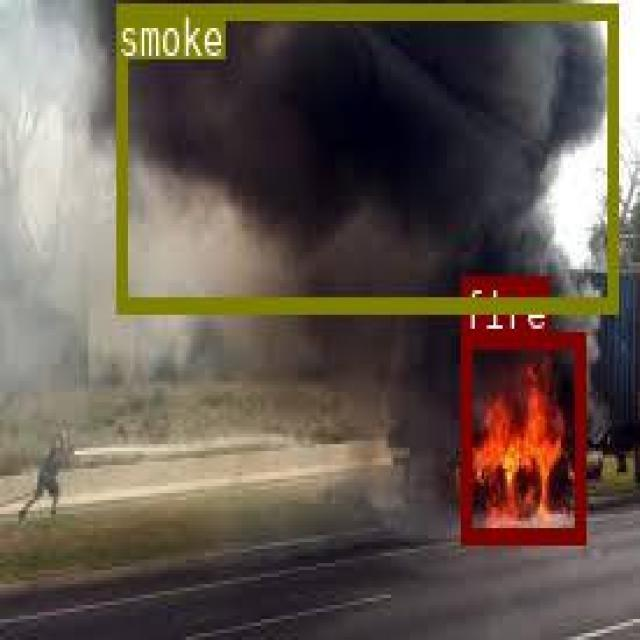fire: (461, 331, 584, 540)
smoke: (116, 3, 615, 310)
